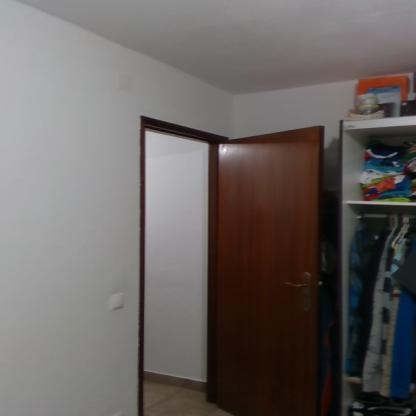semi: (131, 110, 339, 416)
